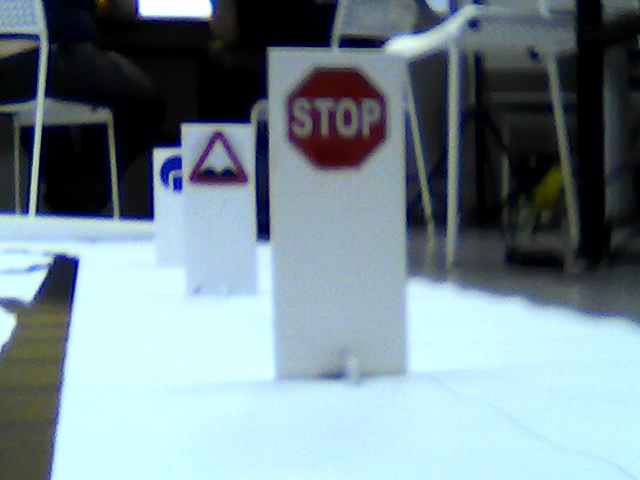Nerov: (190, 131, 250, 184)
Stop: (278, 63, 388, 175)
